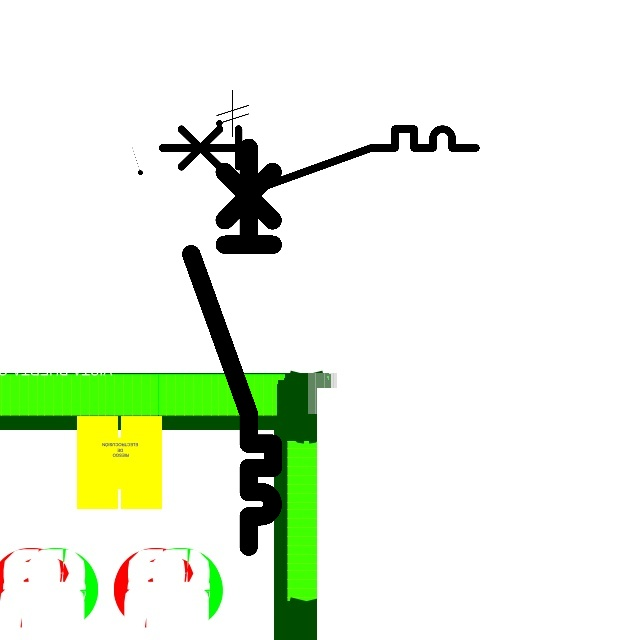interruptor_termomagnetico: (181, 137, 283, 556), (154, 121, 484, 201)
